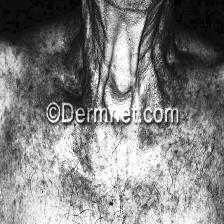Non-Cancerous Skin Condition: (64, 124, 177, 224)
